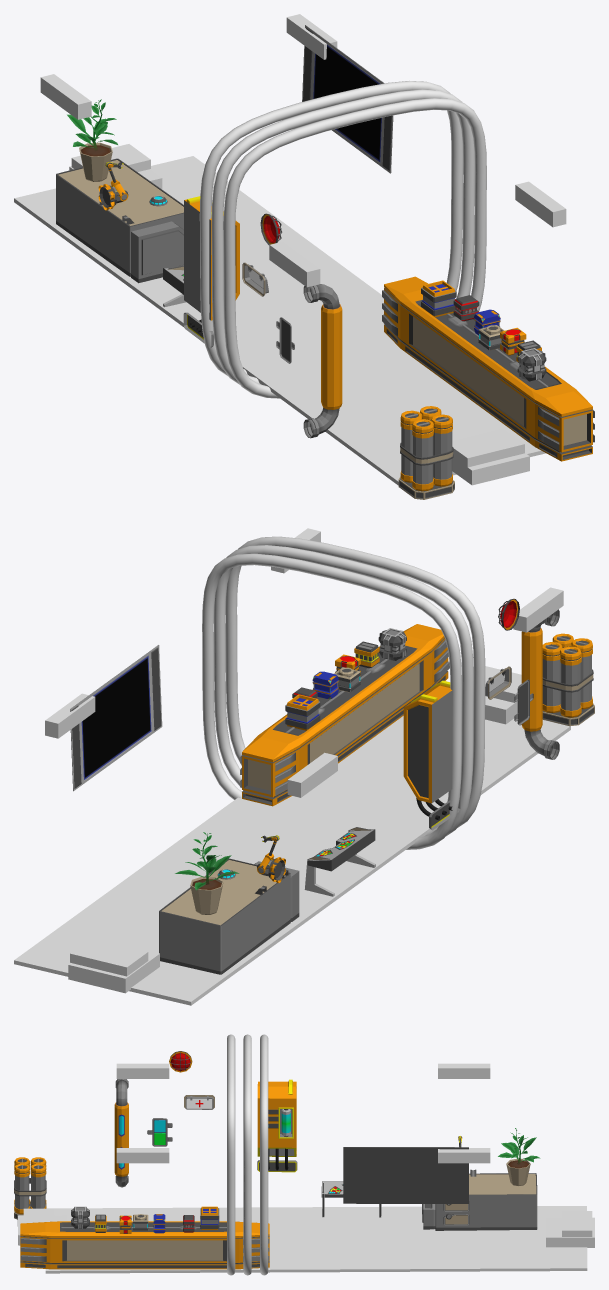
Rendered from BaseModuleV4.Interno.fbx.
3 views of the same model, one above another, from view 1: azimuth 30°, elevation 25°; view 2: azimuth 150°, elevation 25°; view 3: azimuth 270°, elevation 25° (orthographic). The views are drawn at different scales.
Visible parts, largest first — view 1: Cubo.004, ModuleRoundPipes.001, Crate00, Workbench00, ModuleSideWindows.001, ScreenWall00, Canister00, Pipe00, FuseBox00, Cubo.003, Plant00, Cubo.002 (+4 smaller); view 2: Cubo.004, ModuleRoundPipes.001, Crate00, Workbench00, ScreenWall00, FuseBox00, Canister00, ModuleSideWindows.001, Pipe00, Console01, Cubo.001, Plant00 (+6 smaller); view 3: Cubo.004, Crate00, ScreenWall00, ModuleRoundPipes.001, Workbench00, ModuleSideWindows.001, FuseBox00, Canister00, Pipe00, Plant00, Cubo, Cubo.001 (+7 smaller).
Part boxes in pixels (x1,y1,x2,y2): Cubo.004: [14, 156, 545, 485]; ModuleRoundPipes.001: [199, 81, 486, 398]; Crate00: [382, 276, 594, 461]; Workbench00: [56, 158, 183, 283]; ModuleSideWindows.001: [40, 14, 566, 287]; ScreenWall00: [302, 25, 393, 173]; Canister00: [398, 406, 454, 499]; Pipe00: [303, 284, 342, 438]; FuseBox00: [183, 196, 239, 347]; Cubo.003: [452, 428, 524, 467]; Plant00: [67, 99, 117, 181]; Cubo.002: [452, 453, 529, 485]; Cubo.004: [14, 716, 570, 1005]; ModuleRoundPipes.001: [202, 536, 485, 849]; Crate00: [240, 624, 449, 806]; Workbench00: [159, 858, 299, 974]; ScreenWall00: [70, 645, 162, 791]; FuseBox00: [403, 680, 460, 830]; Canister00: [542, 633, 594, 726]; ModuleSideWindows.001: [45, 528, 563, 797]; Pipe00: [521, 609, 559, 759]; Console01: [304, 827, 375, 896]; Cubo.001: [70, 938, 148, 976]; Plant00: [175, 832, 239, 914]; Cubo.004: [45, 1206, 587, 1273]; Crate00: [20, 1221, 269, 1269]; ScreenWall00: [343, 1147, 468, 1203]; ModuleRoundPipes.001: [227, 1034, 268, 1275]; Workbench00: [422, 1169, 537, 1230]; ModuleSideWindows.001: [116, 1063, 490, 1163]; FuseBox00: [257, 1079, 297, 1172]; Canister00: [14, 1157, 46, 1219]; Pipe00: [114, 1079, 128, 1187]; Plant00: [498, 1128, 540, 1185]; Cubo: [546, 1217, 594, 1247]; Cubo.001: [562, 1211, 592, 1236].
Bounding box in the file's own units: 211 × 210 × 577.
